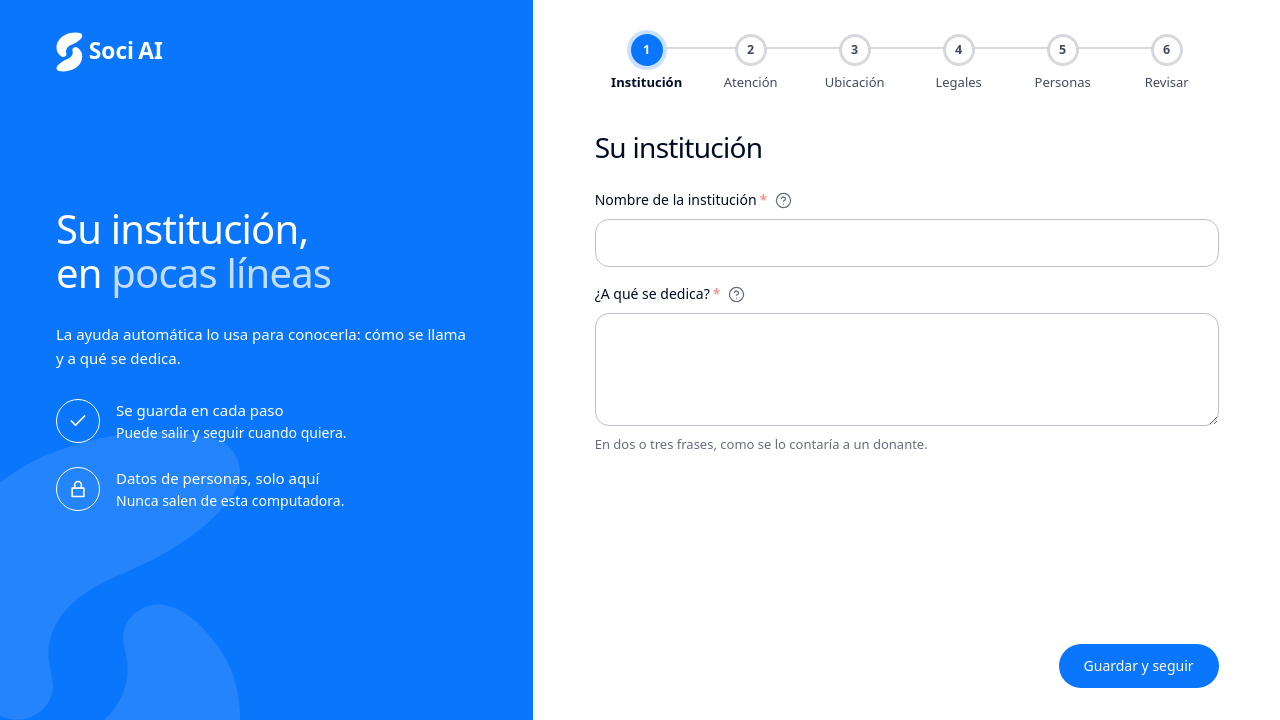
Test case: the first start › a step saves only its own fields, and goes on once Rust says it is complete
The width and height of the screenshot is (1280, 720).
In the field labelled "Nombre de la institución*": point(907, 243) [595,219,1219,267], type "Casa Ficticia"
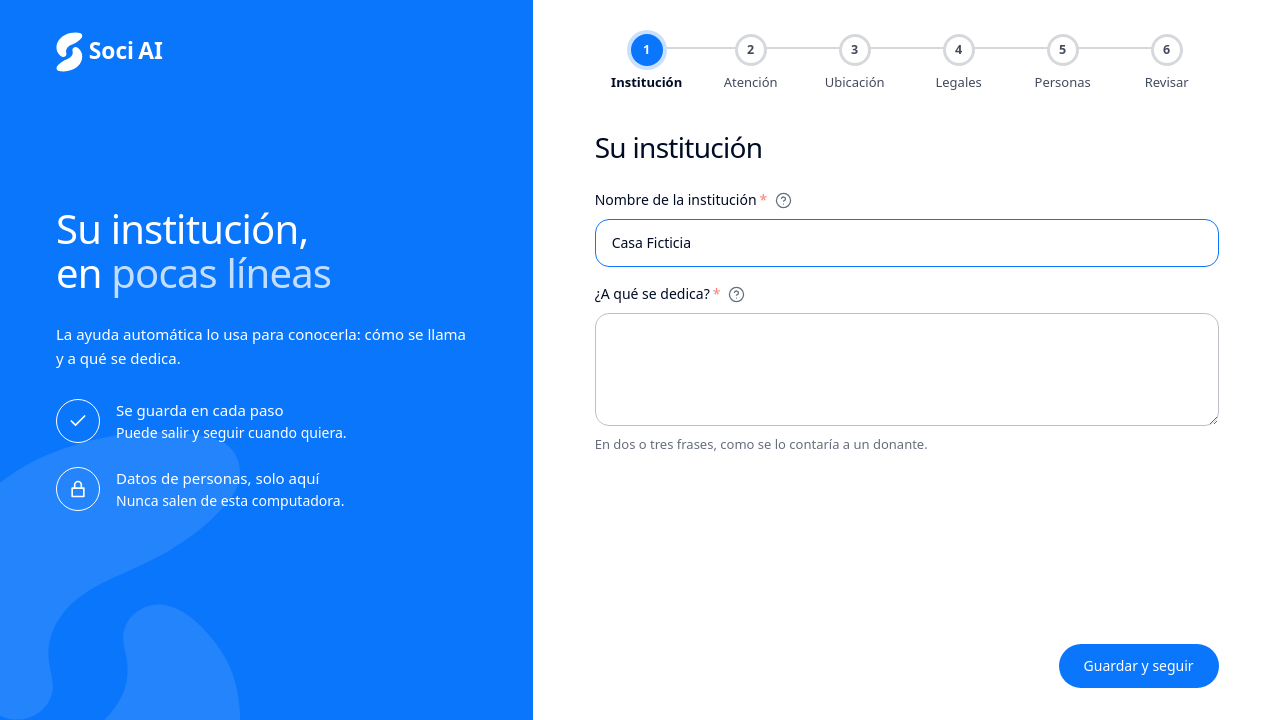
Click the button "Guardar y seguir": point(1139, 666) [1058,644,1219,688]
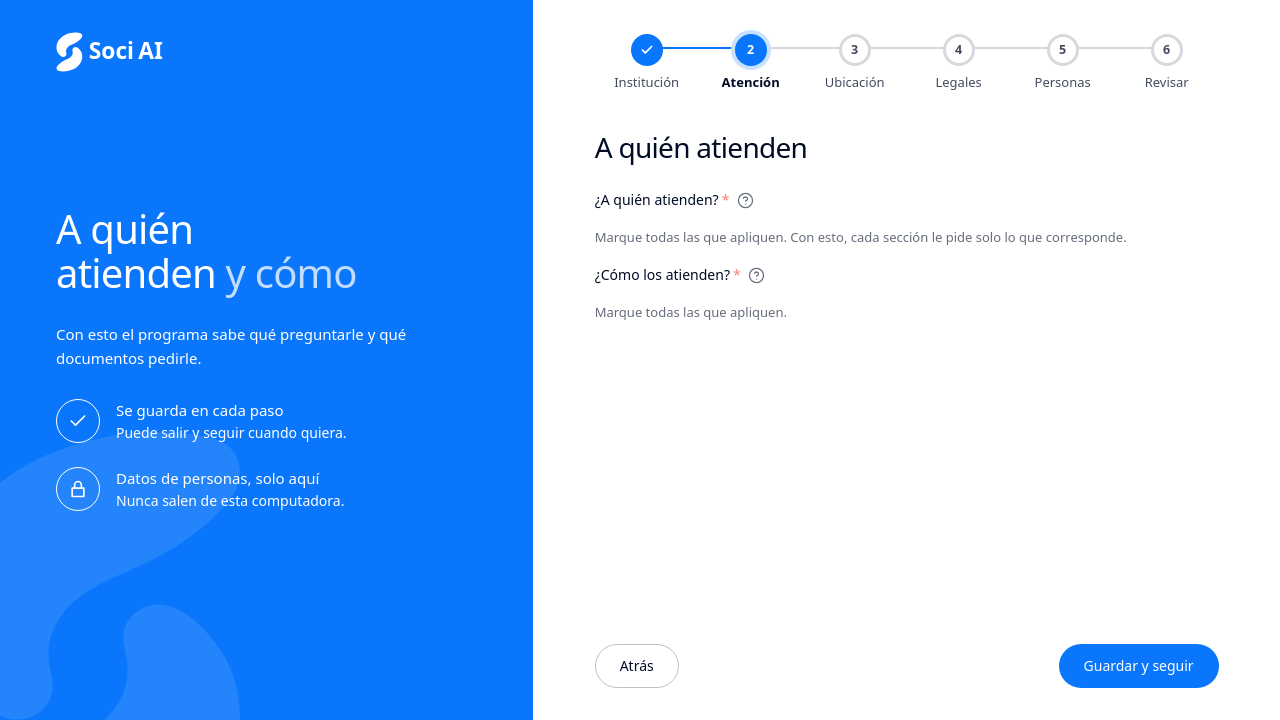
Expected: the heading "A quién atienden" is shown, [595,128,807,166]
